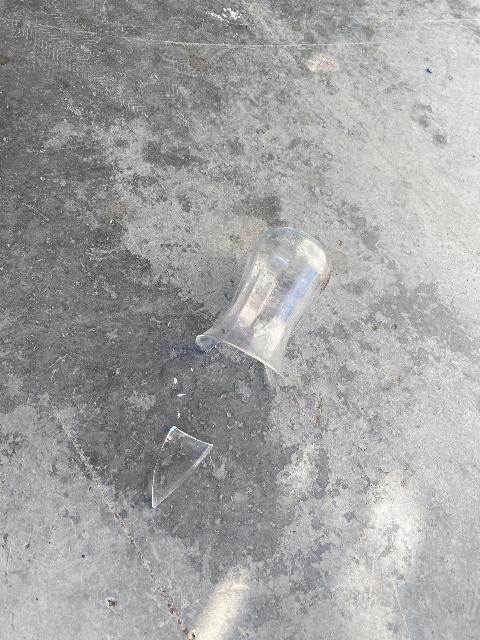Cam: (197, 222, 335, 393), (144, 424, 217, 514)
